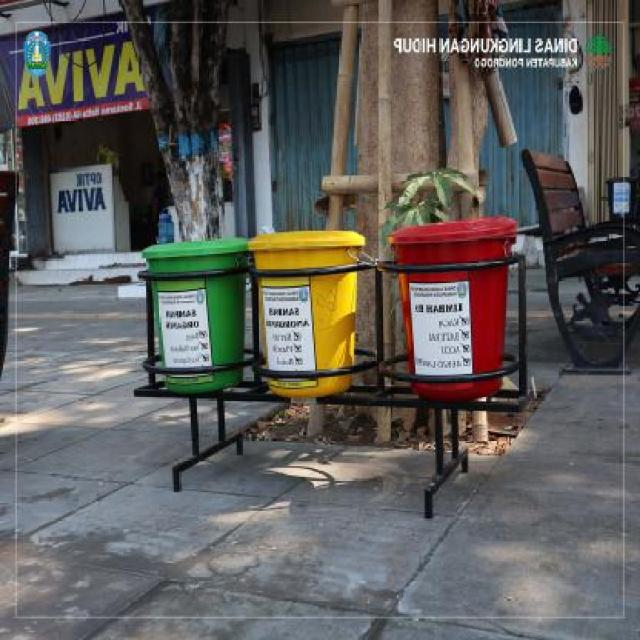garbage container: (382, 208, 526, 412), (251, 220, 369, 406), (136, 228, 250, 404)
